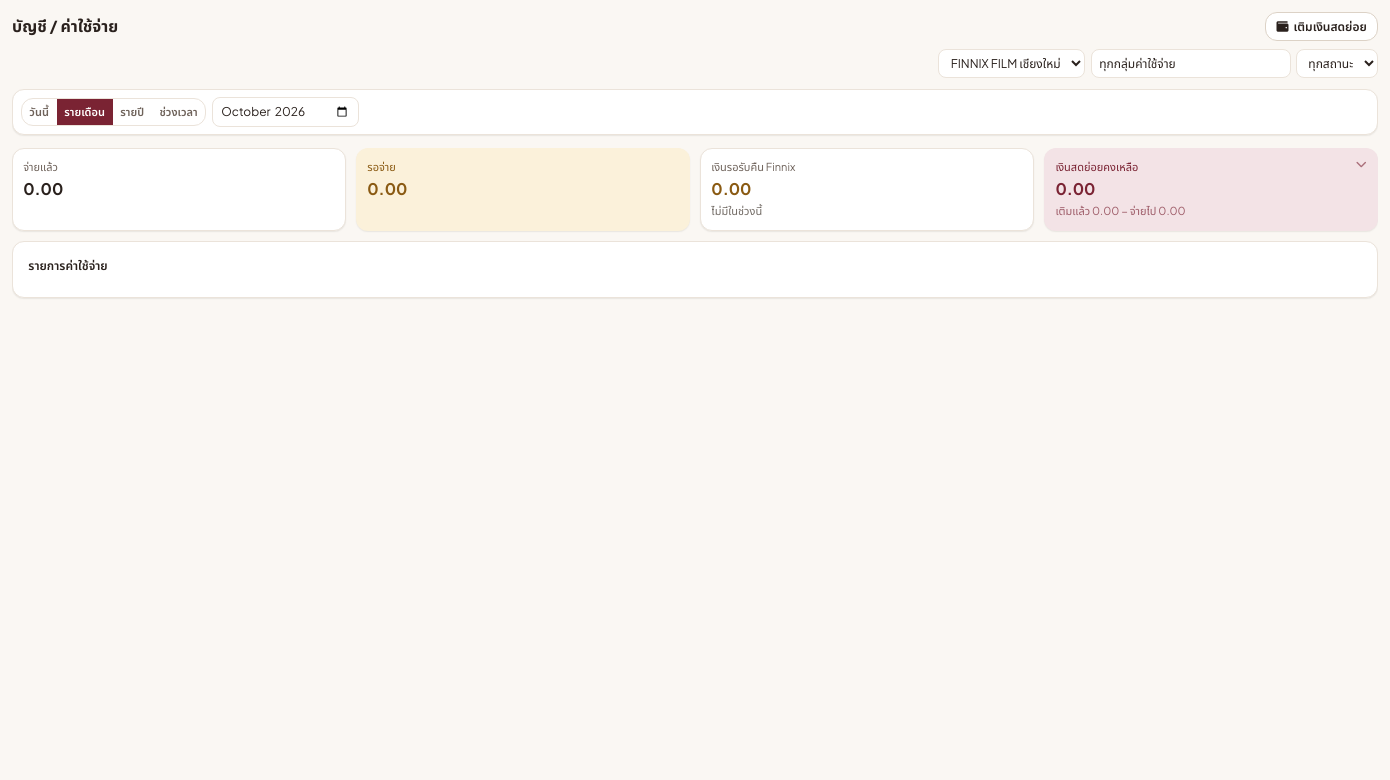
Test: AccountingModule — เติมเงินสดย่อย › shows a refusal from the server and keeps the form open
Step 1. Click the button "เติมเงินสดย่อย" → (1322, 27), box [1265, 12, 1378, 41]
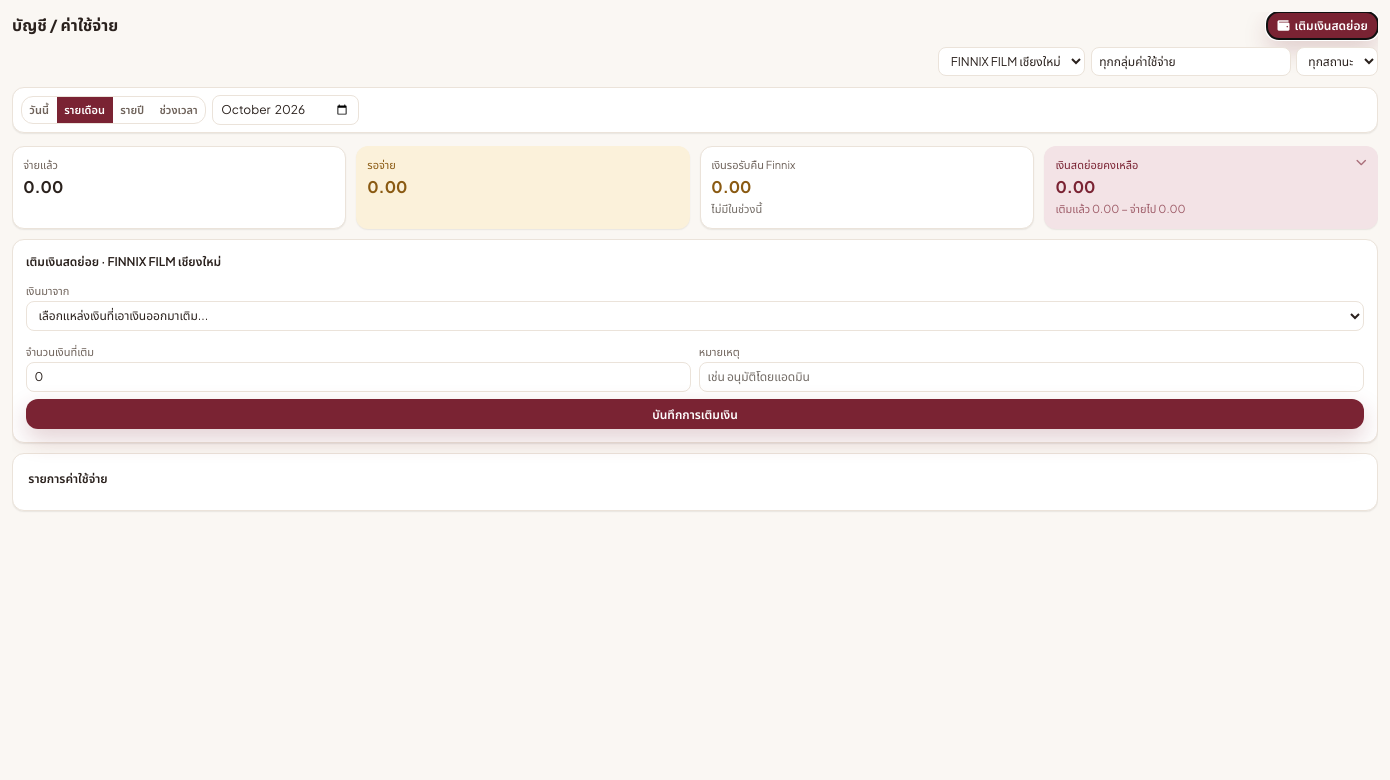
Step 2. Select "เงินสดหน้าร้าน" in the dropdown named "เงินที่เติมมาจากแหล่งไหน" → (695, 316), box [26, 301, 1364, 331]
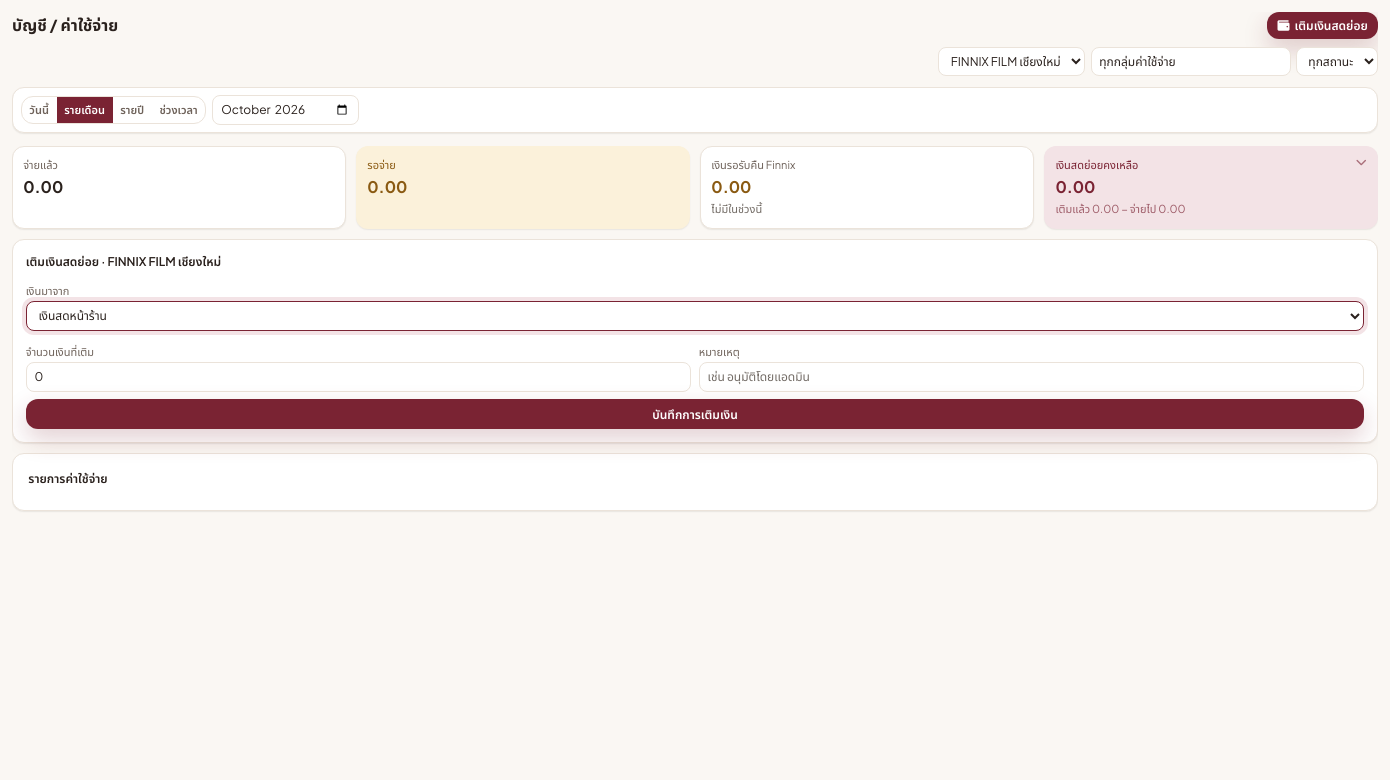
Step 3. Replace the text in the number field with "100" → (358, 377), box [26, 362, 691, 392]
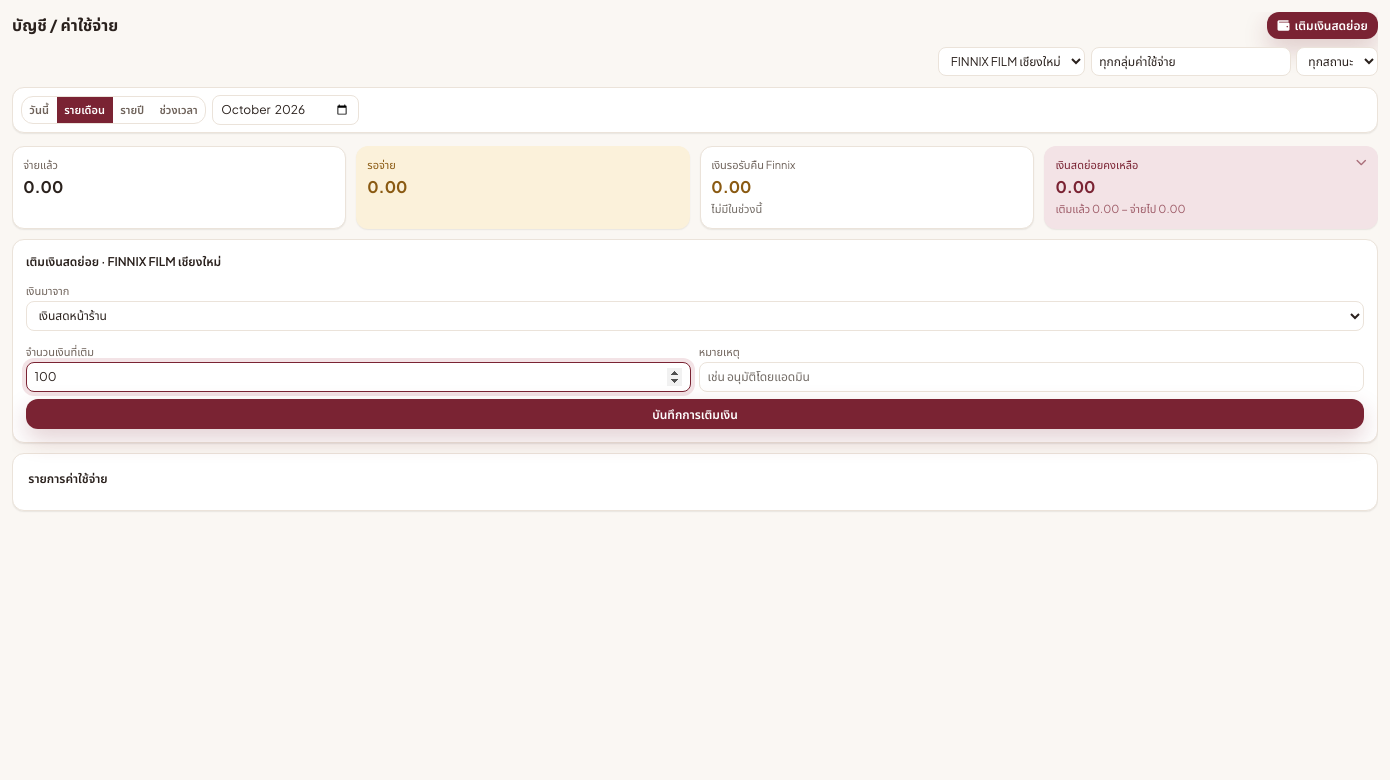
Step 4. Click the button "บันทึกการเติมเงิน" → (695, 414), box [26, 399, 1364, 429]
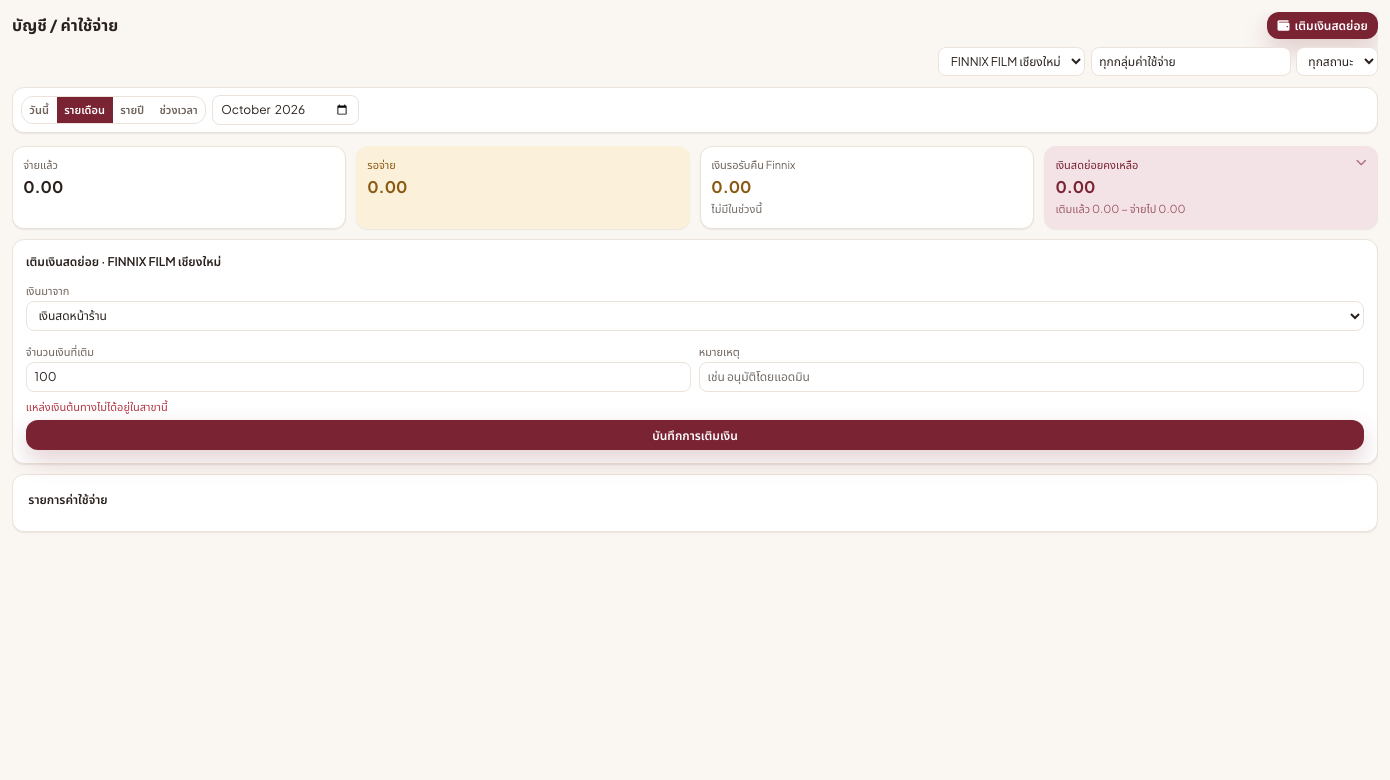
Check: the button "บันทึกการเติมเงิน" is shown, box [26, 420, 1364, 450]
Check: the message reads "แหล่งเงินต้นทางไม่ได้อยู่ในสาขานี้", box [26, 400, 168, 413]
